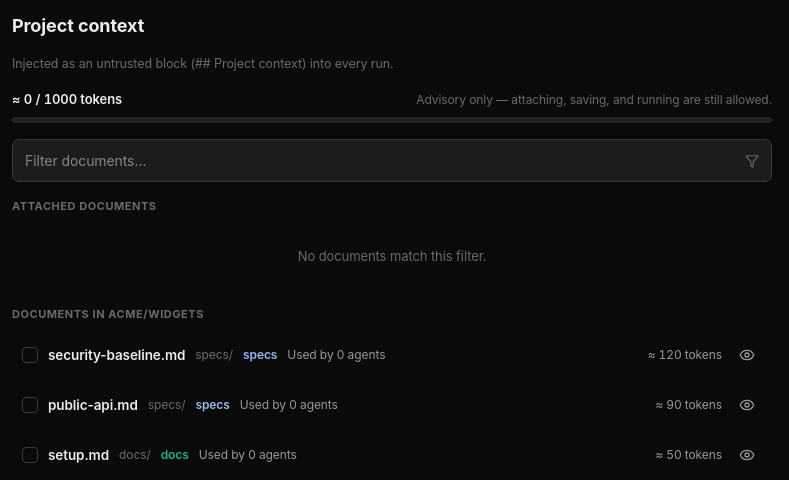
ContextTab › checking two documents renders a total equal to the sum of their estimates (AC-17, AC-40)
Click the checkbox named "security-baseline.md": x=30, y=355 x1=22 y1=347 x2=38 y2=363
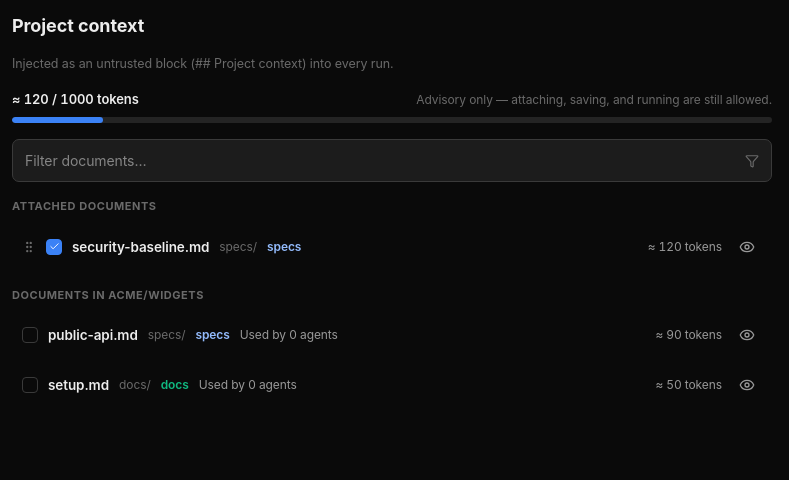
Expected: the text "≈ 120 / 1000 tokens" is shown, x1=12 y1=90 x2=139 y2=109
Click the checkbox named "public-api.md": x=30, y=335 x1=22 y1=327 x2=38 y2=343
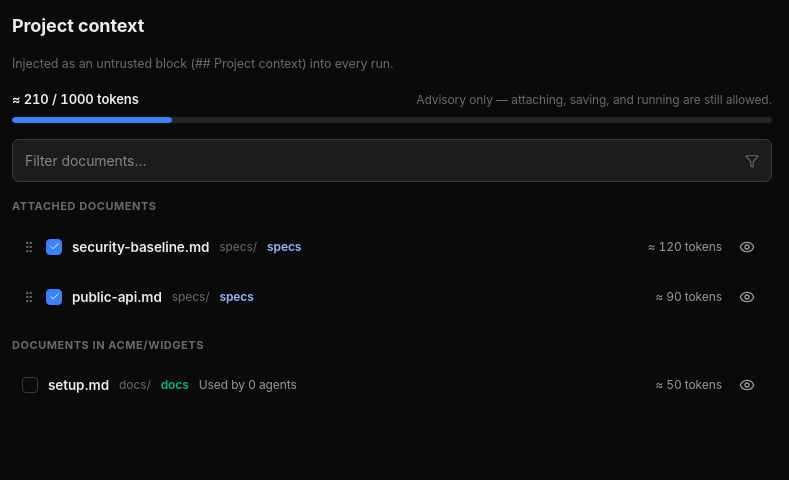
Expected: the text "≈ 210 / 1000 tokens" is shown, x1=12 y1=90 x2=139 y2=109
